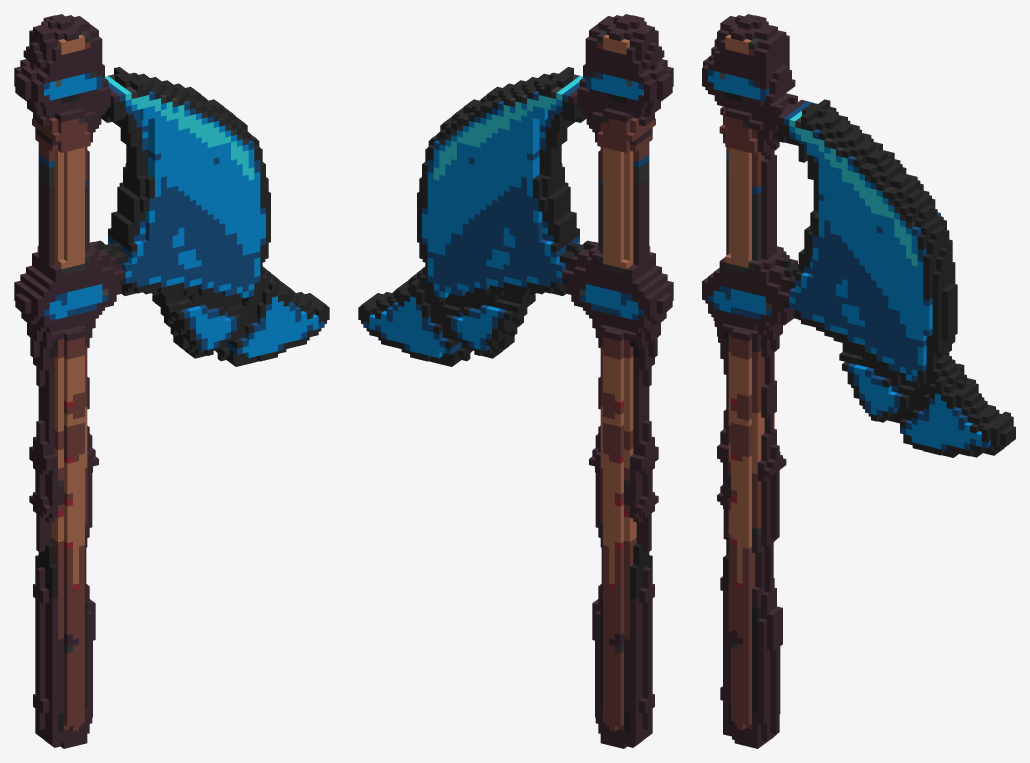
Rendered from flagBlue.obj.
The picture shows the model from 3 angles, left to right: view 1: azimuth 30°, elevation 25°; view 2: azimuth 150°, elevation 25°; view 3: azimuth 330°, elevation 25°; orthographic projection.
Parts seen in each view (by area): view 1: flagBlue; view 2: flagBlue; view 3: flagBlue.
Part boxes in pixels (x1,y1,x2,y2): flagBlue: (14, 14, 329, 748); flagBlue: (358, 14, 673, 748); flagBlue: (702, 14, 1015, 748).
Bounding box in the file's own units: 52 × 118 × 7.
Materials: 1 (1 with a texture image).
